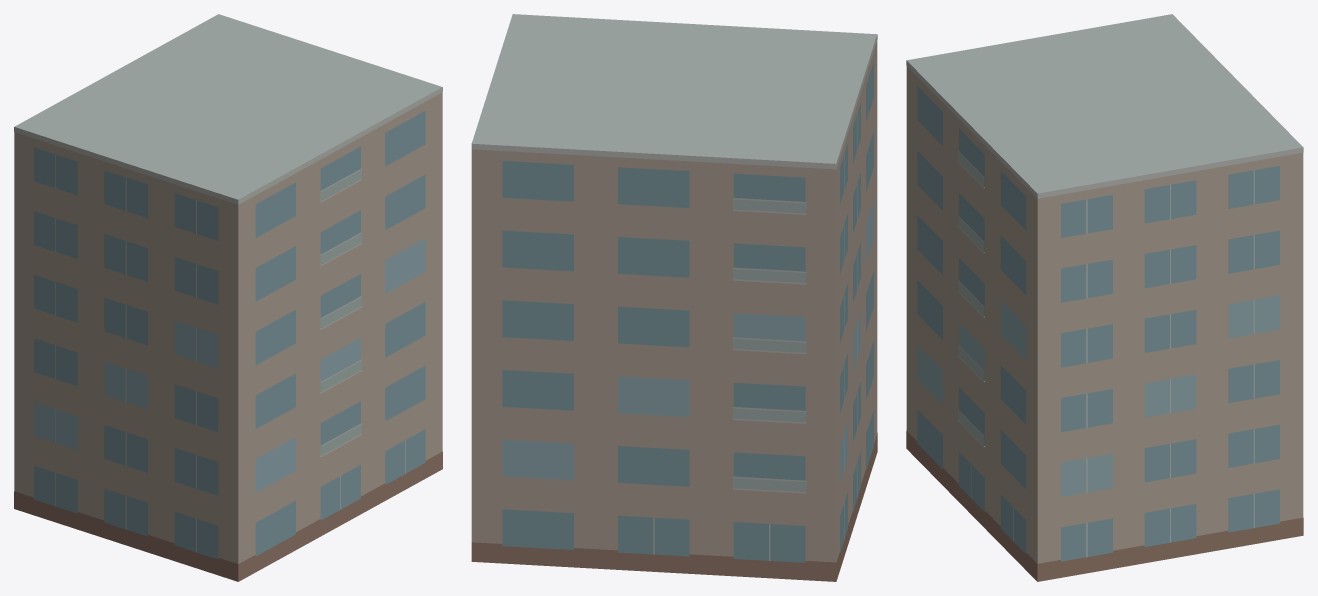
The model's file is survey-upis-32866159.glb.
The picture shows the model from 3 angles, left to right: view 1: azimuth 30°, elevation 25°; view 2: azimuth 150°, elevation 25°; view 3: azimuth 270°, elevation 25°; orthographic projection. The views are drawn at different scales.
Parts seen in each view (by area): view 1: survey-upis-32866159.tmp; view 2: survey-upis-32866159.tmp; view 3: survey-upis-32866159.tmp.
Part boxes in pixels (<box>): survey-upis-32866159.tmp: <box>14,14,442,581</box>; survey-upis-32866159.tmp: <box>471,14,877,581</box>; survey-upis-32866159.tmp: <box>906,14,1303,581</box>.
Size of the model in its own units: 18.17 by 18.3 by 16.97.
